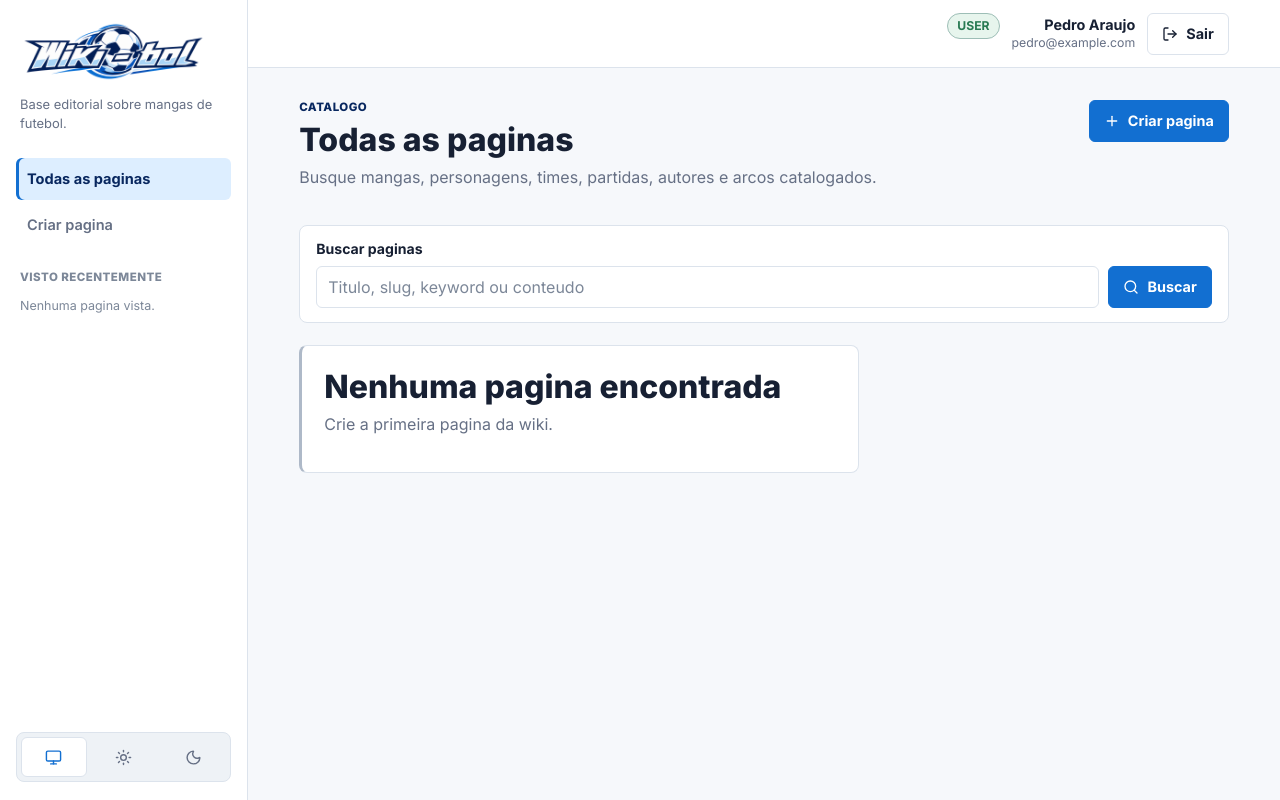
Scenario: Wiki-bol frontend › keeps the authenticated session visible when logout fails
This screenshot has width=1280, height=800.
Expected: the text "Pedro Araujo" is shown, [1044,16,1135,35]
Step 1. Click the button "Sair" → (1188, 34), box [1147,12,1229,54]
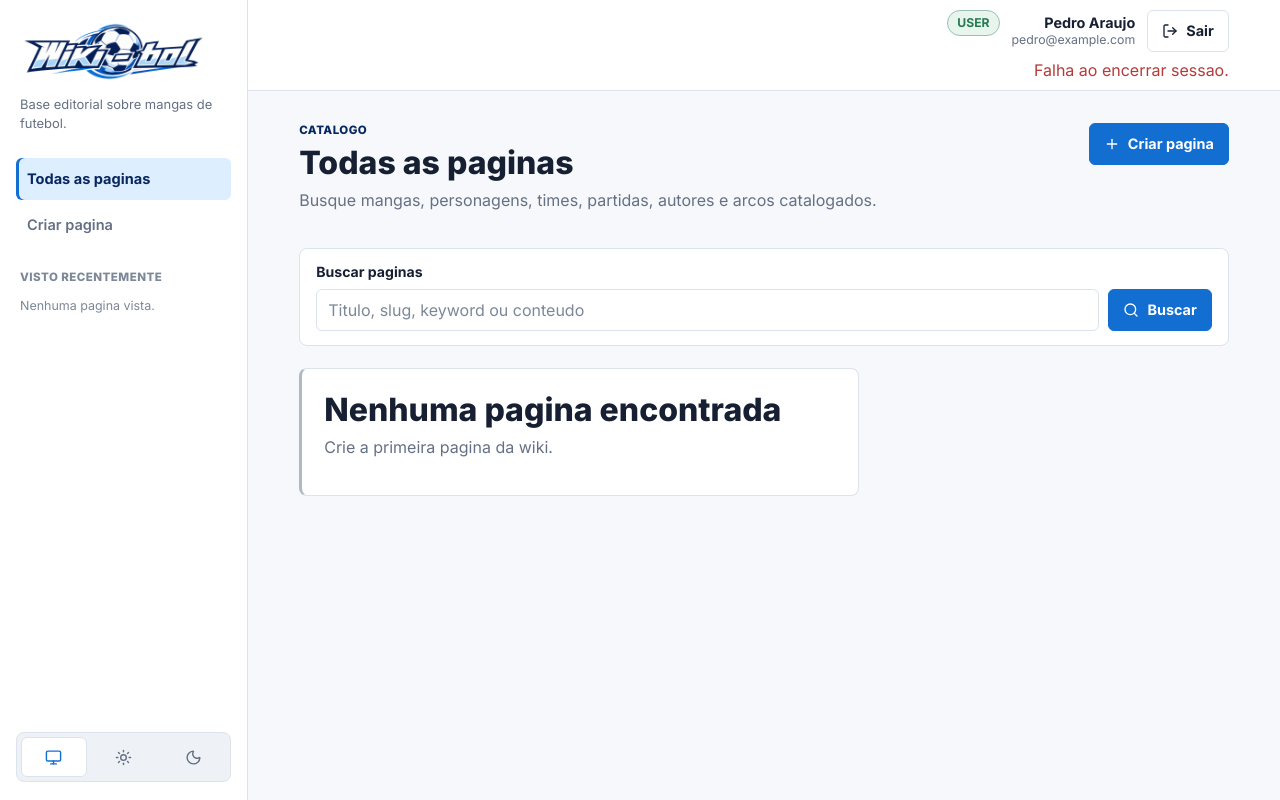
Expected: the text "Pedro Araujo" is shown, [1044,14,1135,32]
Expected: the text "Falha ao encerrar sessao." is shown, [1034,60,1229,80]
